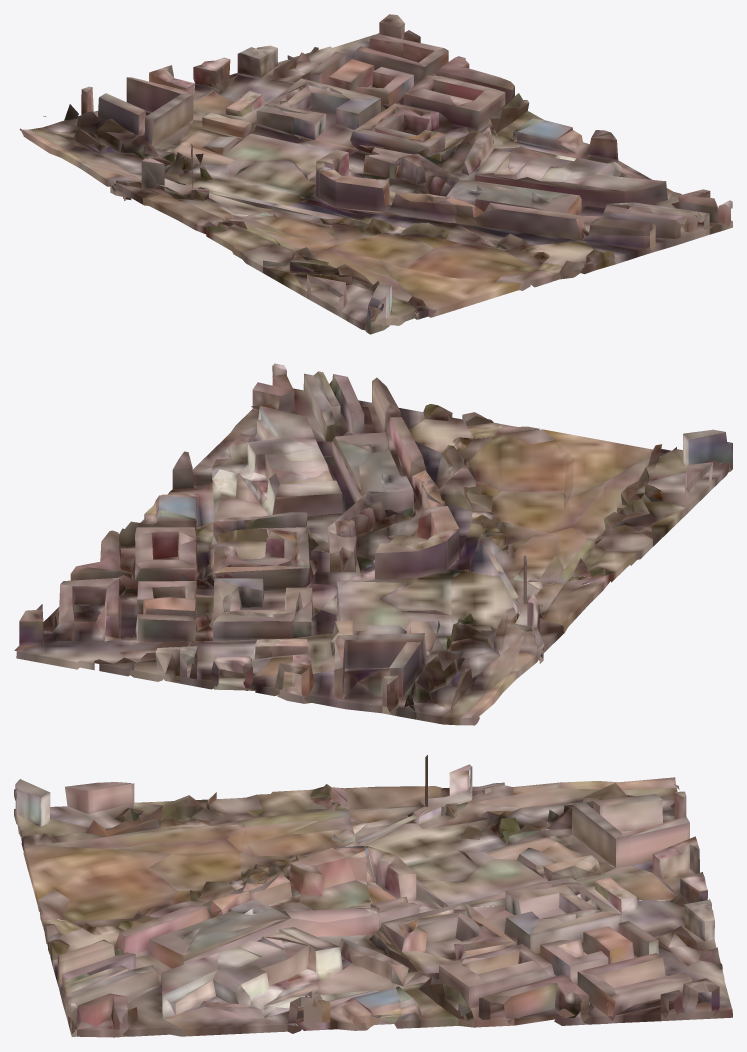
The picture shows the model from 3 angles, top to bottom: view 1: azimuth 30°, elevation 25°; view 2: azimuth 150°, elevation 25°; view 3: azimuth 270°, elevation 25°; orthographic projection. The views are drawn at different scales.
Visible parts, largest first — view 1: Mesh_0; view 2: Mesh_0; view 3: Mesh_0.
Part boxes in pixels (box(x1,y1,x2,y2)): Mesh_0: box(19, 14, 732, 334); Mesh_0: box(14, 363, 732, 725); Mesh_0: box(14, 755, 732, 1037).
Bounding box in the file's own units: 540 × 84.58 × 659.
Materials: 2 (2 with a texture image).
